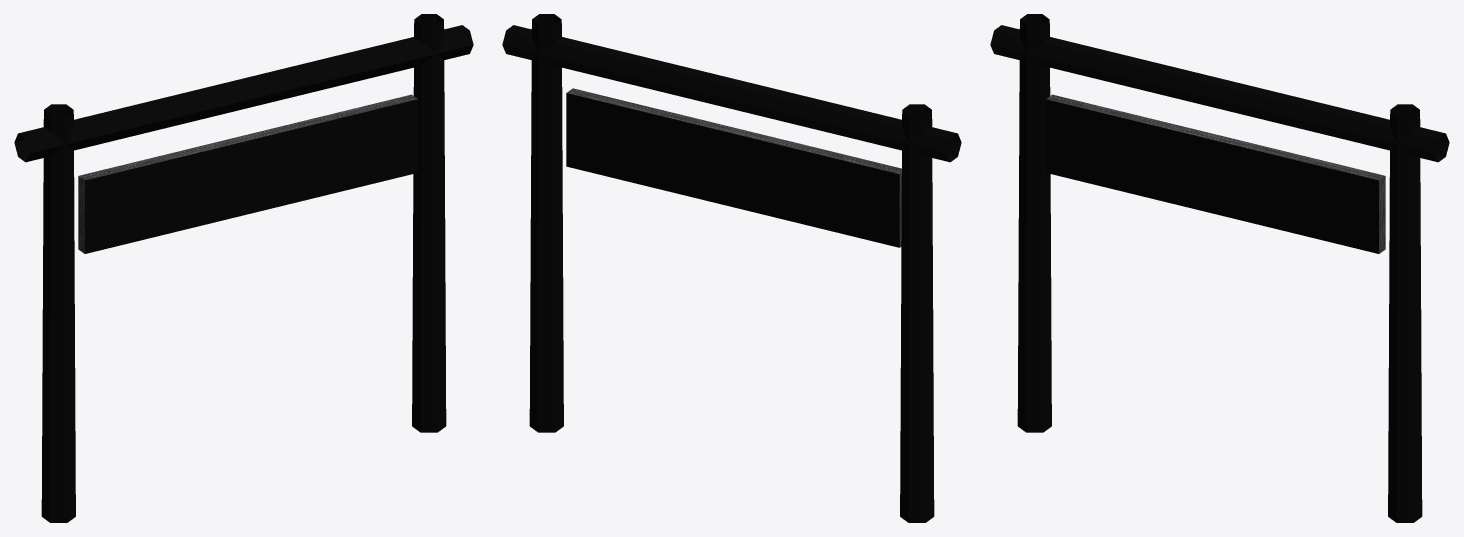
File: SM_sign_ranger.fbx
3 renders of one model, left to right at view 1: azimuth 30°, elevation 25°; view 2: azimuth 150°, elevation 25°; view 3: azimuth 330°, elevation 25°, orthographic.
Parts seen in each view (by area): view 1: sign_ranger; view 2: sign_ranger; view 3: sign_ranger.
Part boxes in pixels (bbox=[...]): sign_ranger: bbox=[14, 14, 473, 522]; sign_ranger: bbox=[502, 14, 961, 522]; sign_ranger: bbox=[990, 14, 1449, 522].
Size of the model in its own units: 2.4 by 2.1 by 0.16.
